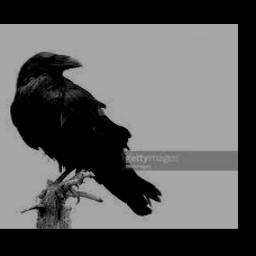Crow: (9, 50, 162, 218)
